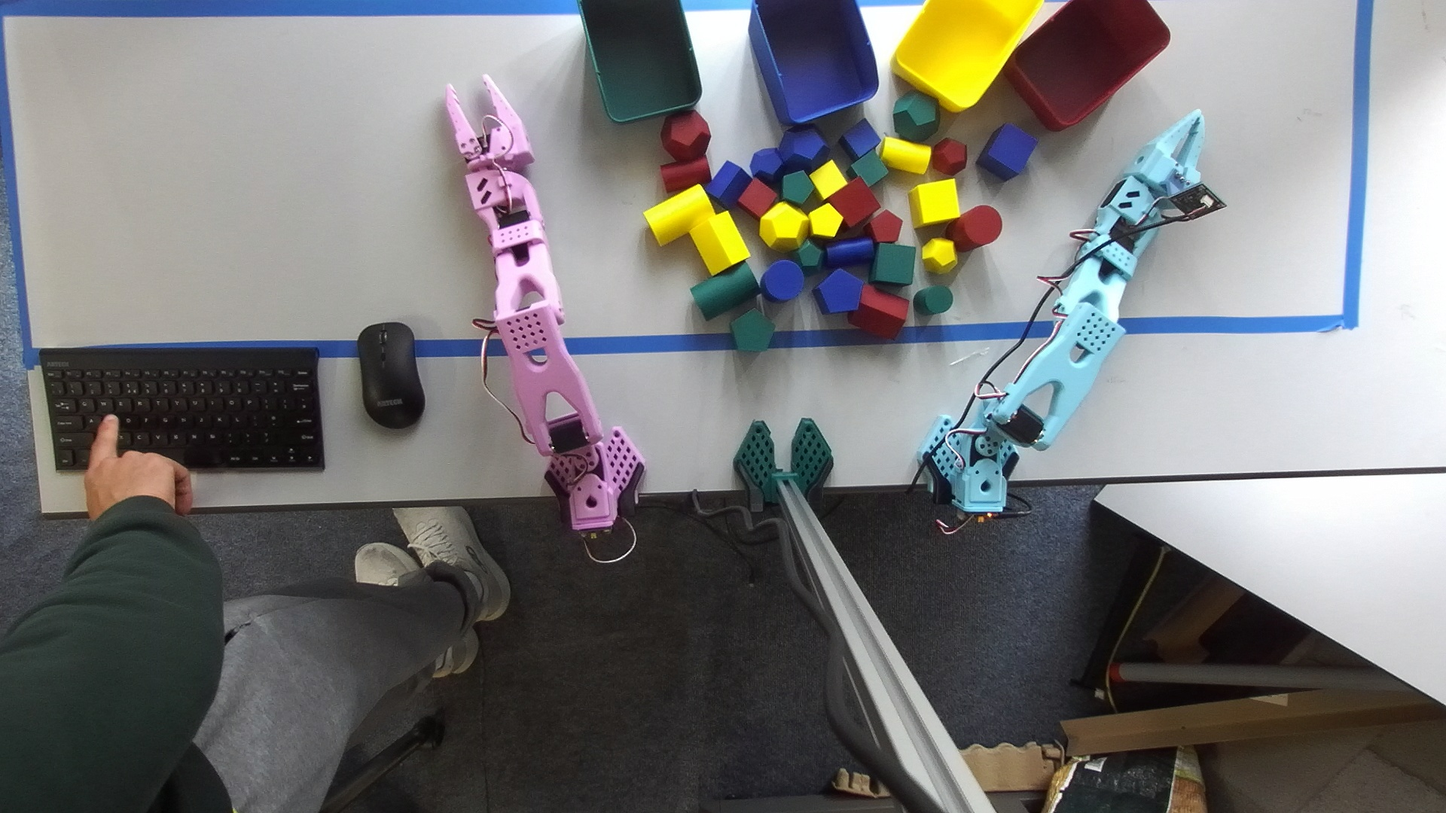bin: (1002, 0, 1170, 130), (891, 0, 1042, 111), (749, 0, 878, 126), (578, 0, 701, 122)
cube: (976, 123, 1036, 181), (827, 178, 880, 227), (908, 178, 959, 228), (869, 242, 916, 285), (839, 119, 880, 160), (738, 179, 777, 218), (810, 160, 847, 199), (851, 149, 888, 186)
cylinder: (643, 184, 713, 245), (690, 261, 758, 320), (945, 205, 1002, 252), (660, 157, 711, 194), (880, 137, 931, 173), (761, 259, 804, 301), (825, 237, 874, 268), (913, 285, 953, 315)
dodecahedron: (660, 110, 710, 160), (759, 202, 810, 250), (892, 90, 939, 142), (777, 126, 829, 172), (930, 139, 967, 176), (921, 237, 957, 273), (749, 148, 782, 185), (793, 242, 823, 272)
gripper: (446, 75, 534, 172), (1123, 110, 1203, 195)
hexagonal: (690, 212, 749, 274), (847, 284, 908, 340), (704, 161, 752, 211), (812, 269, 862, 313), (731, 309, 774, 352), (808, 202, 843, 239), (865, 210, 902, 242), (782, 170, 814, 205)
